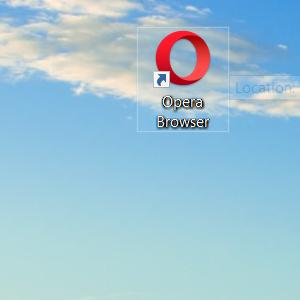opera: (153, 30, 211, 88)
